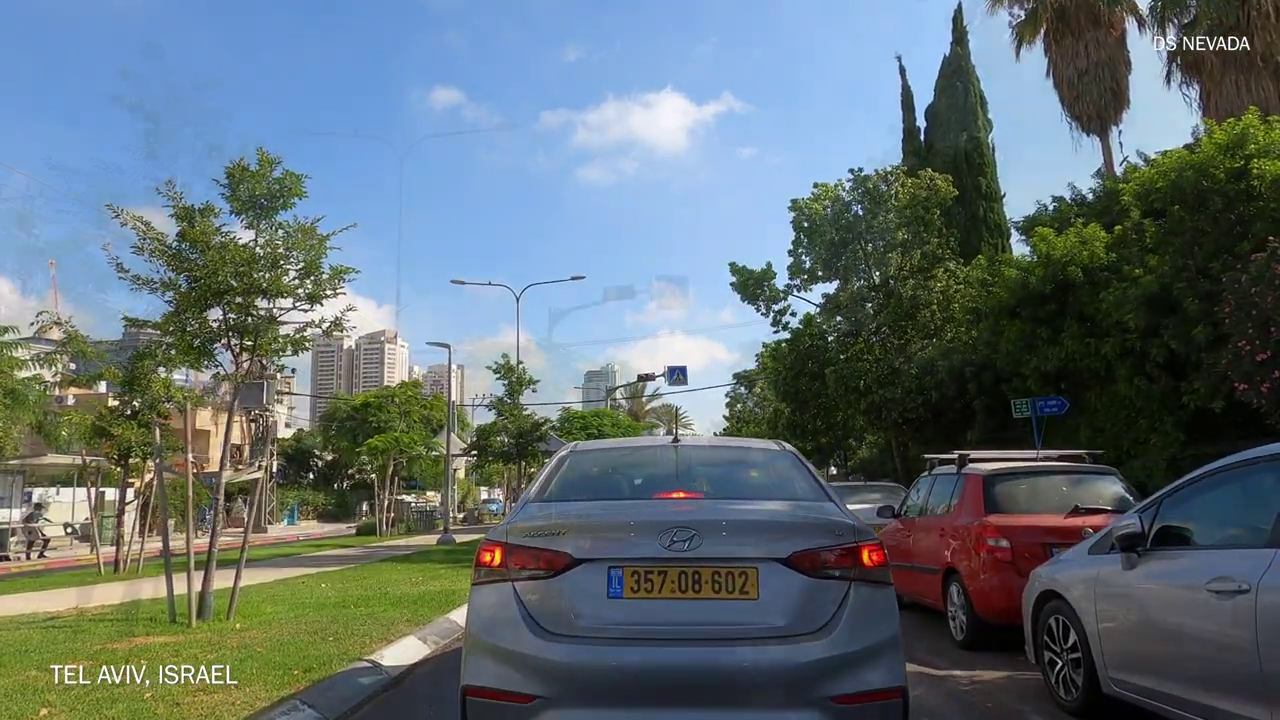licence: (605, 555, 772, 607)
